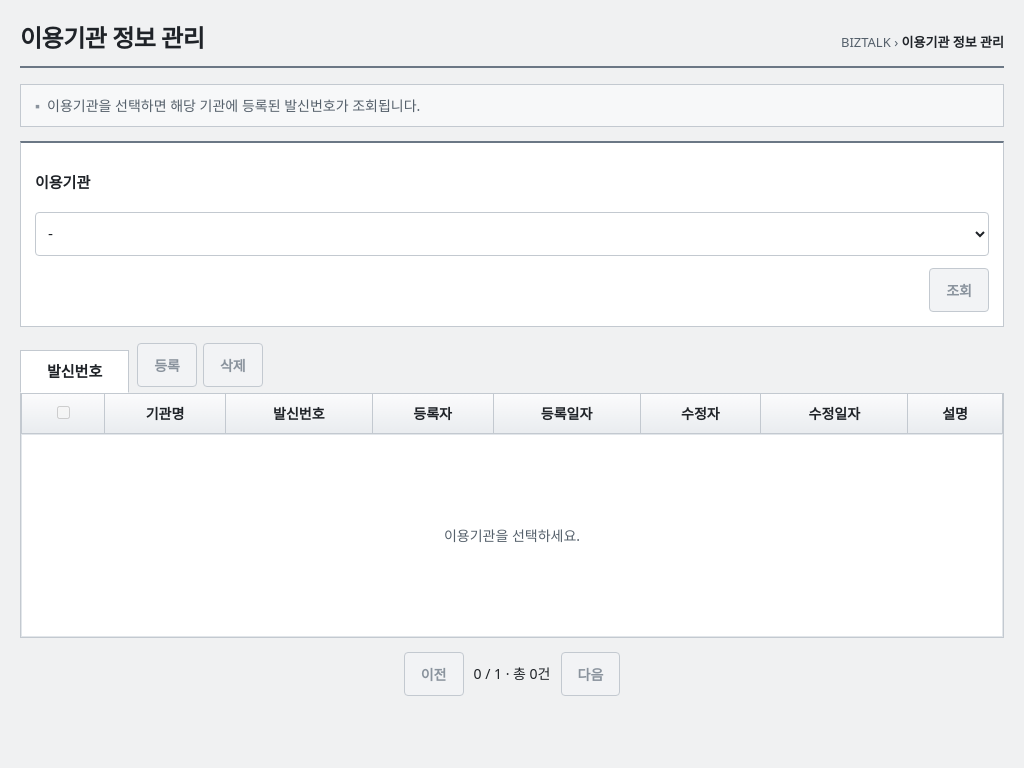
Test case: SenderNumberPage › FR-SNDD-010 / D-S8 — 동작할 수 없는 버튼은 눌리지 않는다
This screenshot has width=1024, height=768.
expect the button "등록" is disabled: met, box [137,342,197,386]
expect the button "삭제" is disabled: met, box [203,342,263,386]
Select "○○기관 (사용)" in the dropdown labelled "이용기관" at (512, 234), box [35,212,989,256]
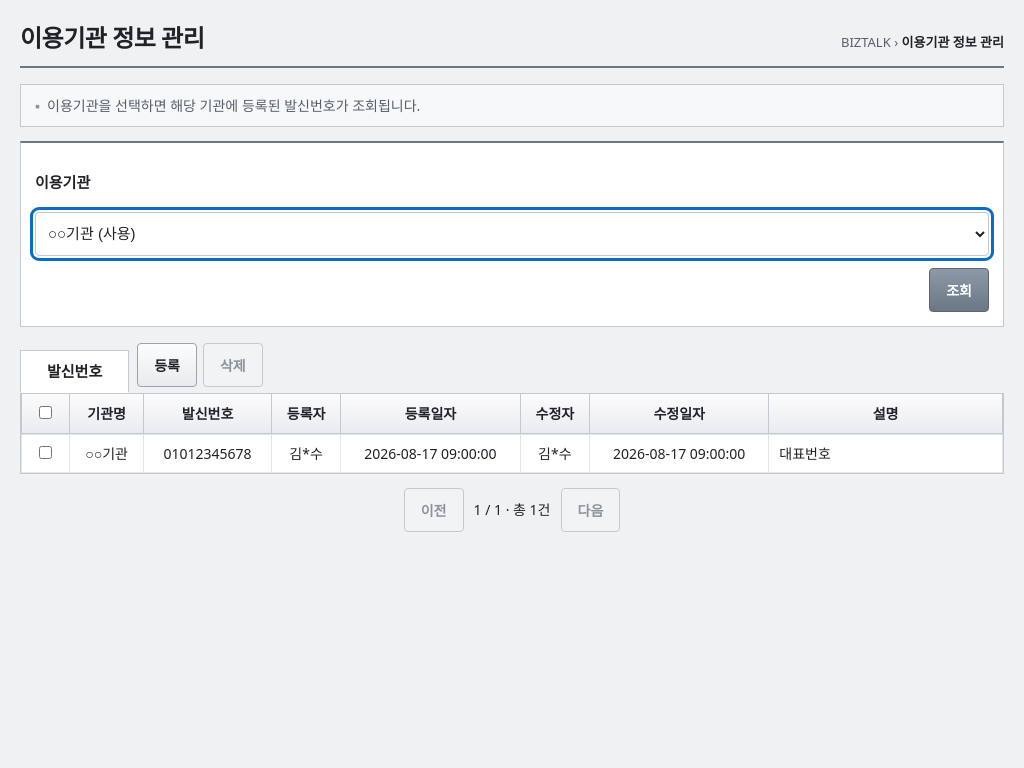
expect the button "삭제" is disabled: met, box [203,342,263,386]
expect the button "등록" is enabled: met, box [137,342,197,386]
Click the checkbox named "01012345678 선택".
click(46, 452)  # box [39,446,52,458]
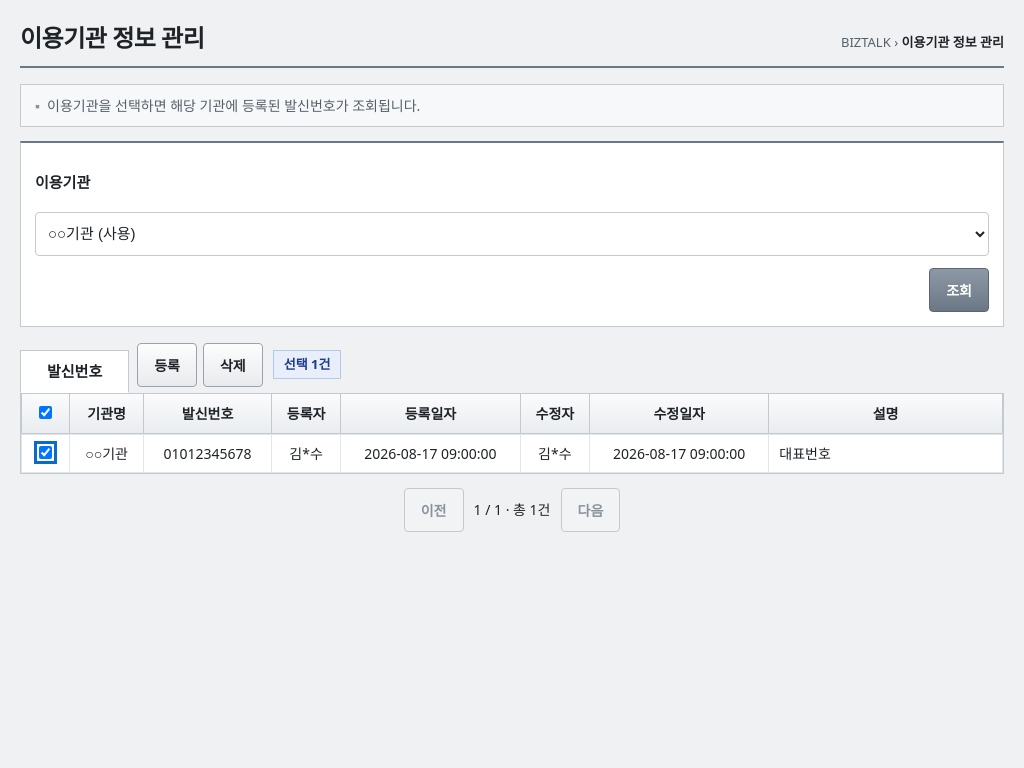
expect the button "삭제" is enabled: met, box [203,342,263,386]
